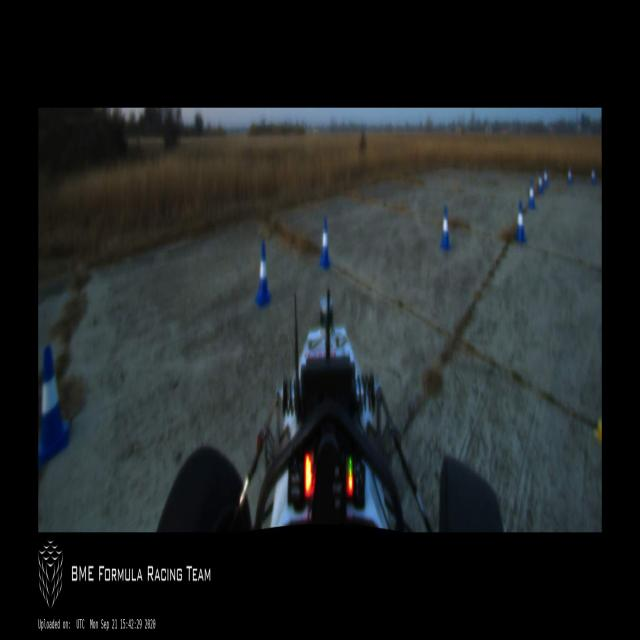blue_cone: (39, 344, 70, 468), (255, 240, 272, 307), (319, 218, 331, 268), (514, 200, 527, 243), (440, 205, 451, 251), (527, 181, 537, 210), (590, 168, 596, 188), (538, 171, 543, 194), (544, 168, 548, 188), (568, 167, 572, 184)
